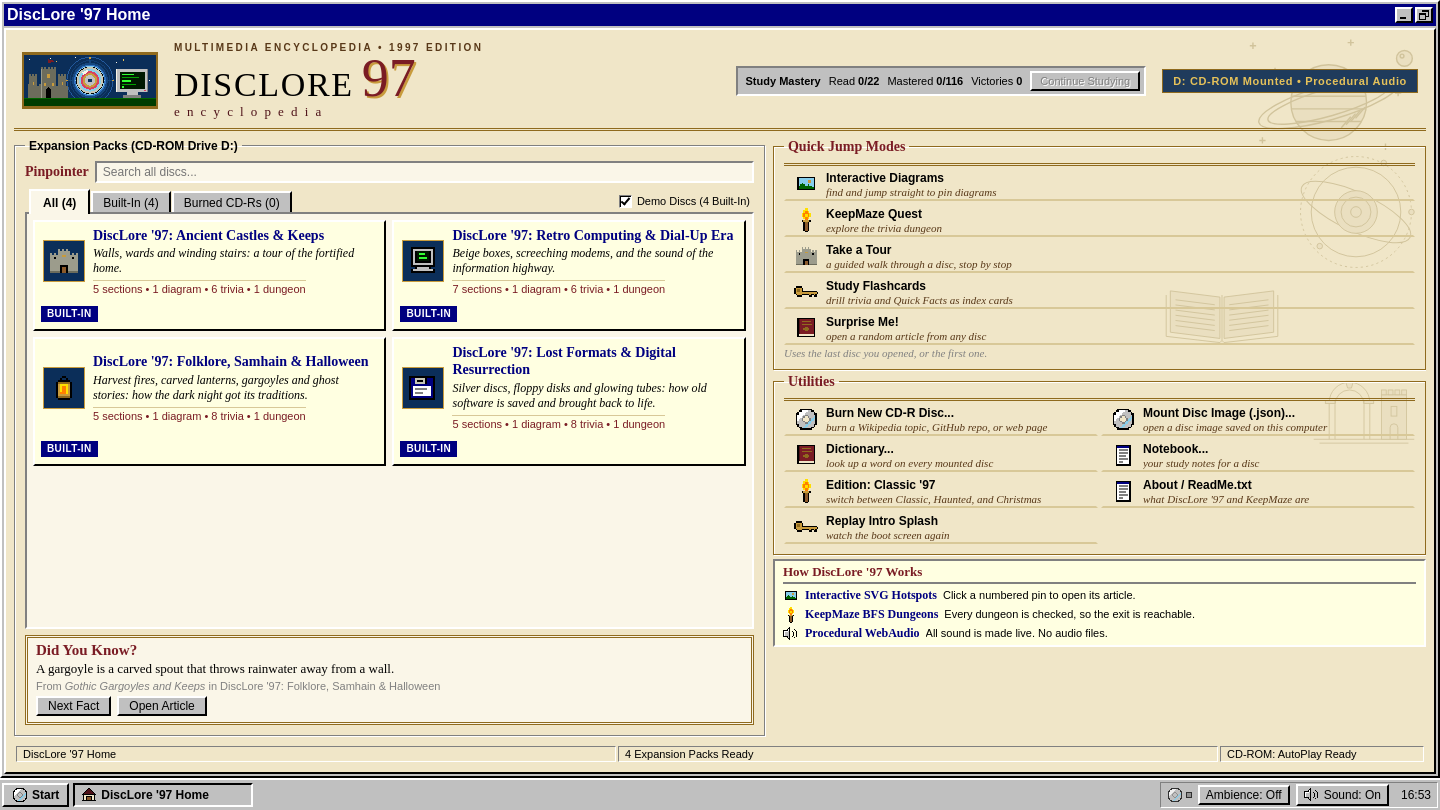
Test: a first visit › opens a new disc from its card
What coordinates should you click on to do the following:
click the text "DiscLore '97: Folklore, Samhain & Halloween"
I would click on:
 (231, 362)
Its box is [93,354,369,371].
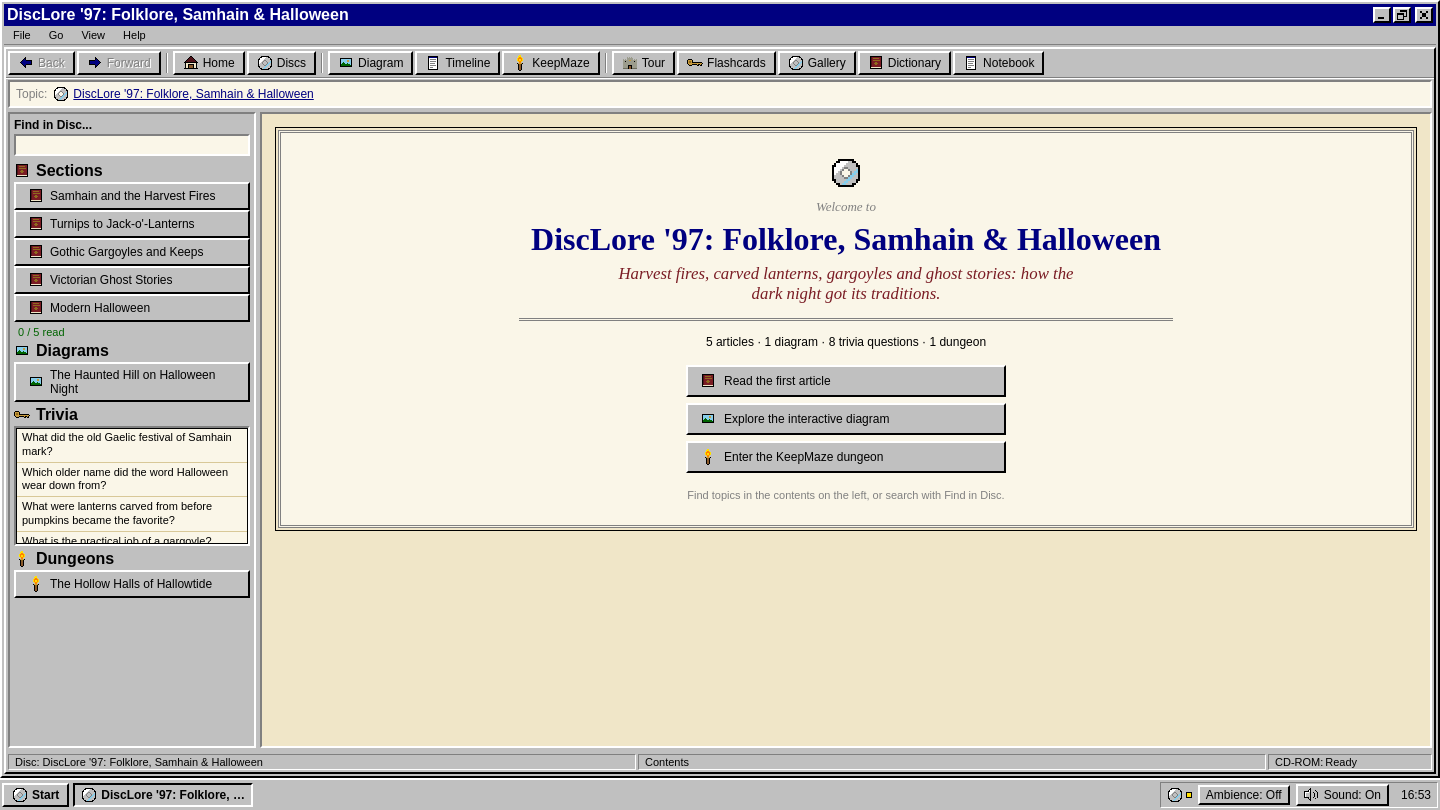
Expected: the dialog "DiscLore '97: Folklore, Samhain & Halloween" is shown
Expected: the button "Samhain and the Harvest Fires" is shown, [104,182,250,210]
